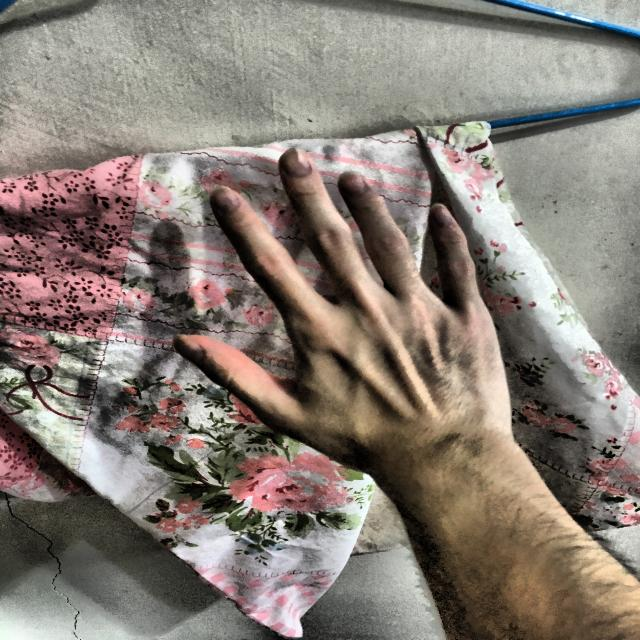not-gloved: (153, 135, 526, 484)
